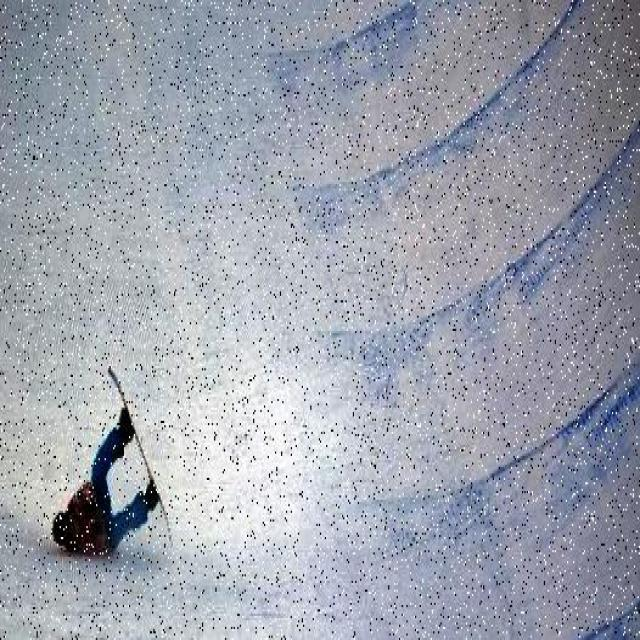fall: (49, 430, 141, 554)
